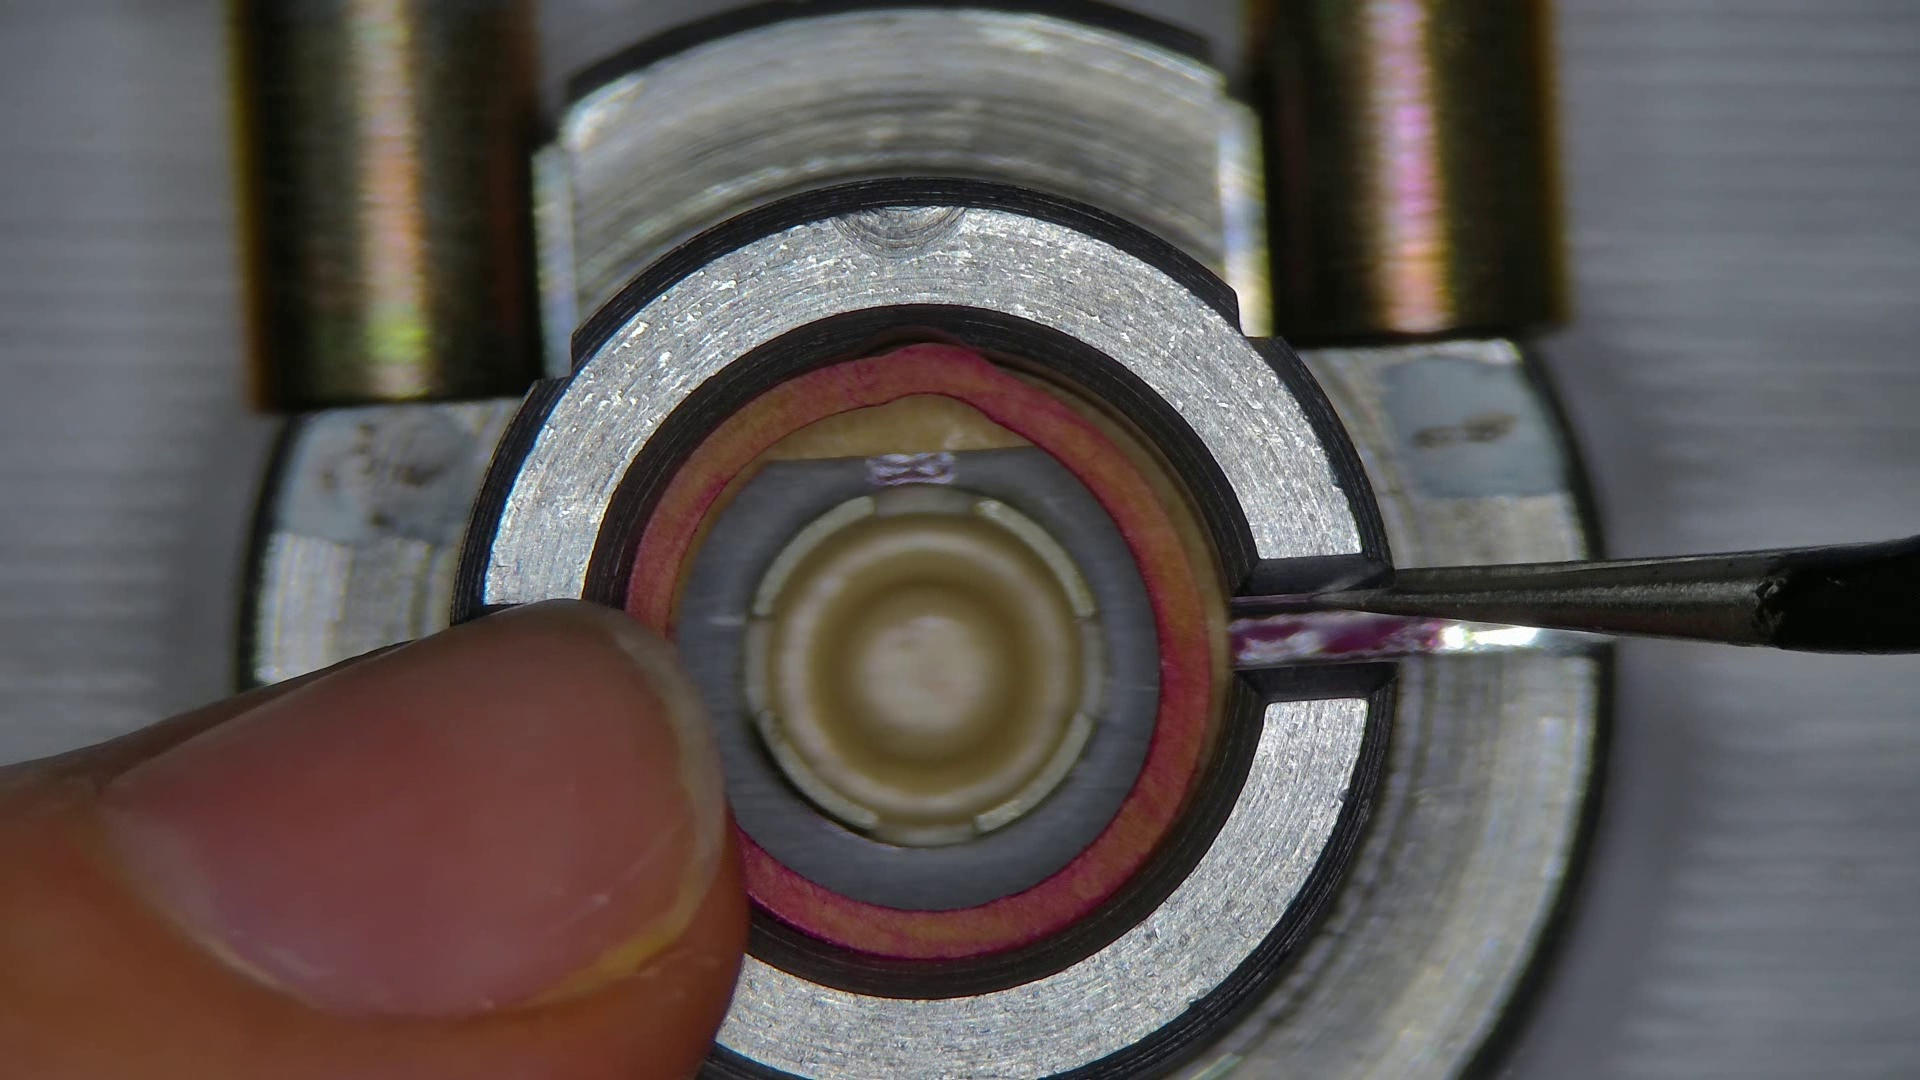GreyOring: (628, 342, 1213, 959)
YellowOring: (686, 449, 1158, 908)
redOring: (668, 396, 1035, 608), (1038, 378, 1228, 752)
